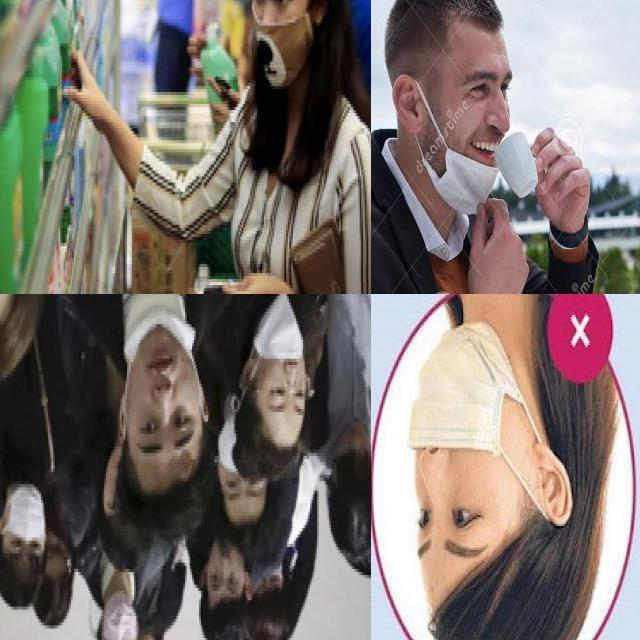hairnet: (407, 335, 534, 488), (126, 312, 201, 408), (434, 118, 504, 210), (256, 318, 308, 384)
